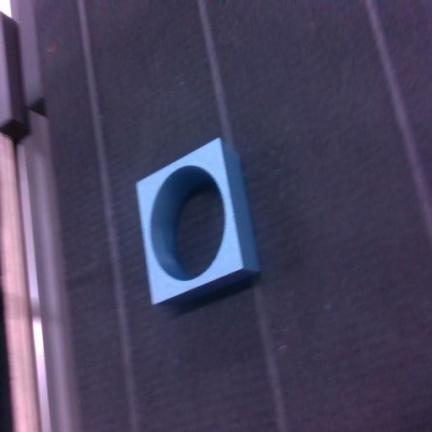square: (137, 138, 259, 304), (137, 139, 259, 303)
